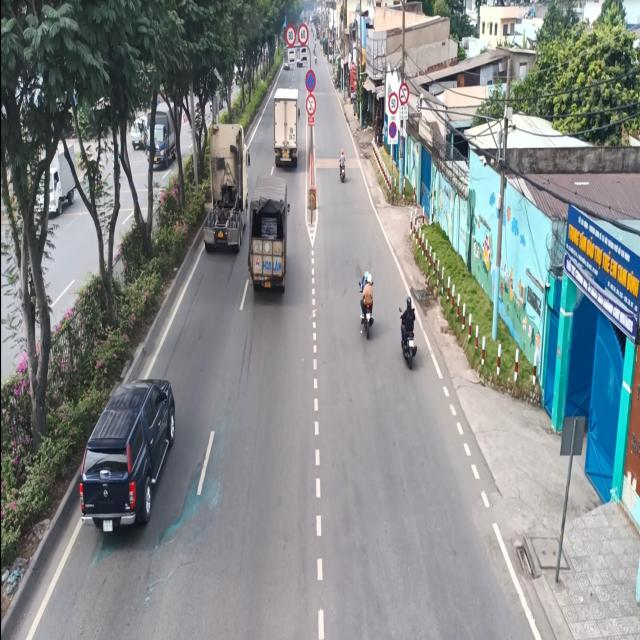car: (76, 375, 180, 545)
motor: (352, 268, 378, 336), (398, 287, 419, 369), (335, 143, 350, 187)
truck: (247, 169, 291, 300), (273, 75, 302, 173)
